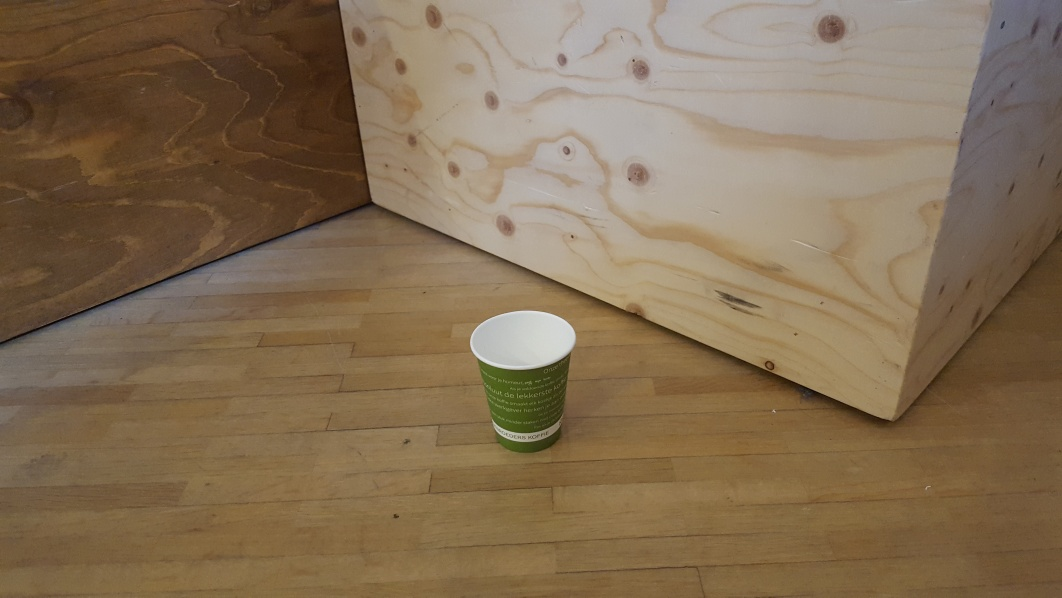cup: (469, 309, 580, 455)
